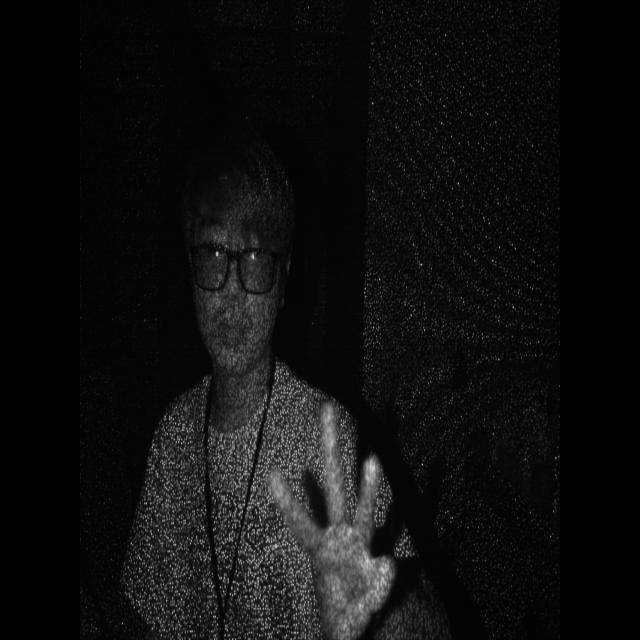W: (262, 400, 400, 640)
